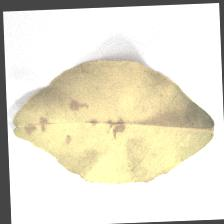black spot: (14, 98, 132, 146)
